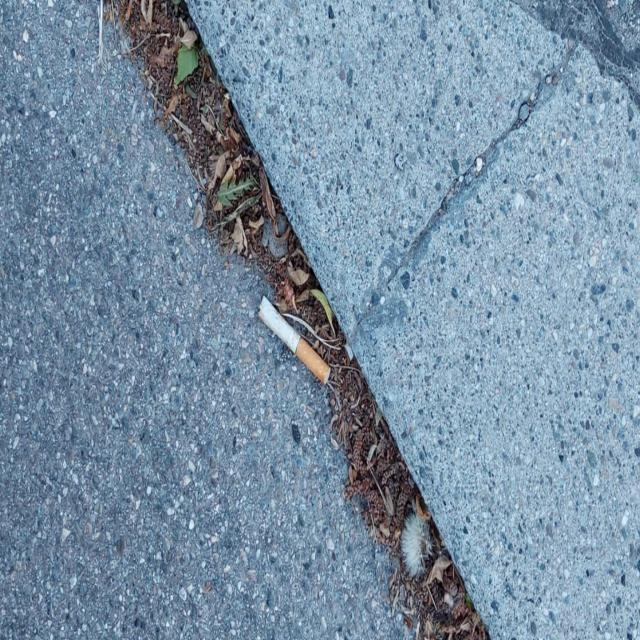other waste: (257, 294, 331, 385)
